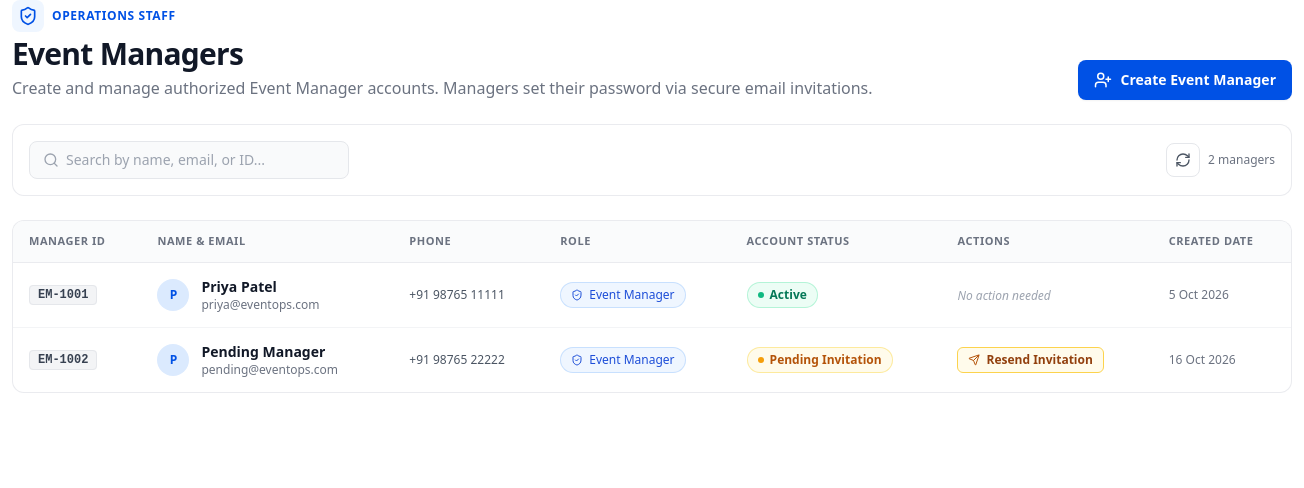
AdminEventManagers Component › allows Admin to resend invitation for pending manager
Expected: the text "Pending Manager" is shown, left=202, top=342, right=338, bottom=362
Click the button "Resend Invitation" at (1031, 360), box left=958, top=346, right=1104, bottom=372
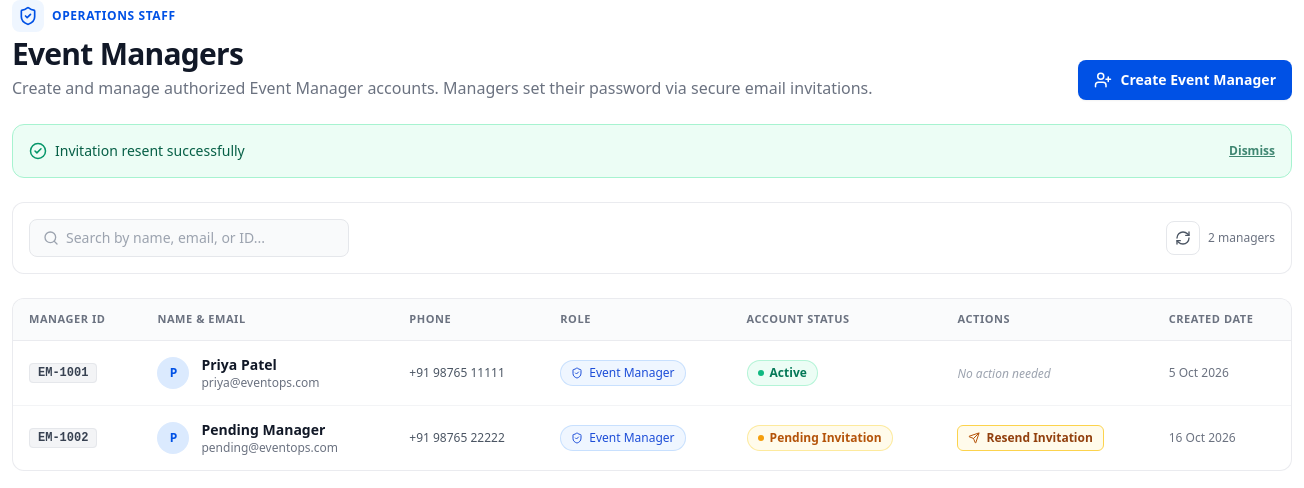
Expected: the text "Invitation resent successfully" is shown, left=55, top=141, right=245, bottom=161
